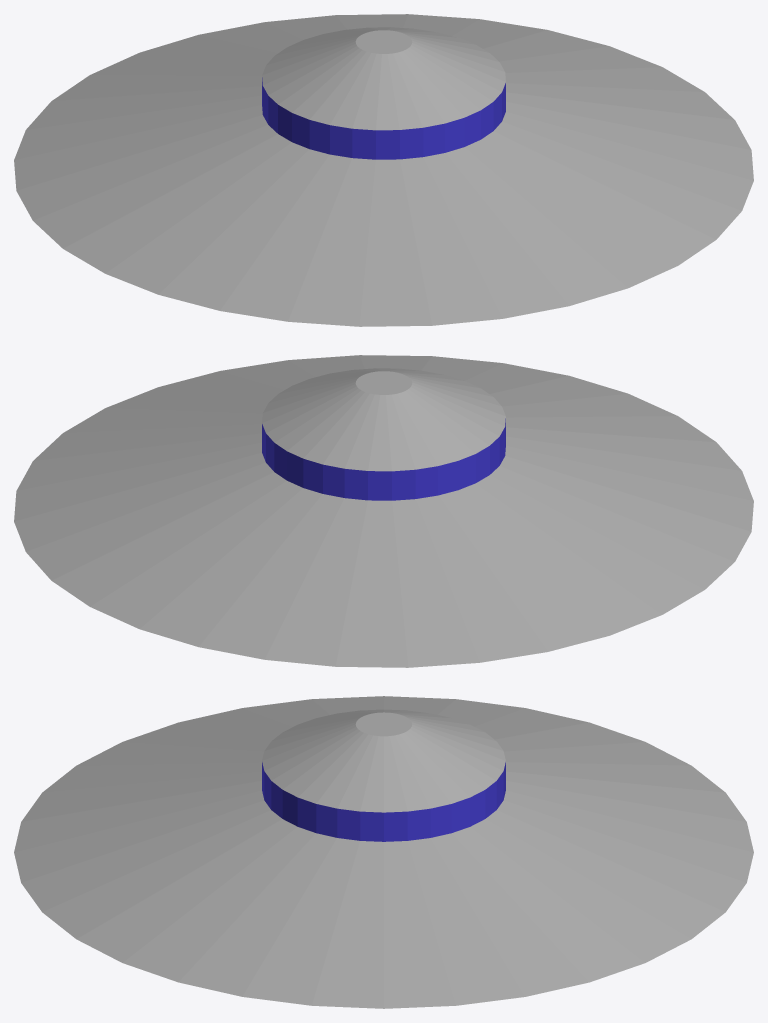
Rendered from ufo.dae.
3 renders of one model, top to bottom at view 1: azimuth 30°, elevation 25°; view 2: azimuth 150°, elevation 25°; view 3: azimuth 270°, elevation 25°, orthographic.
Parts seen in each view (by area): view 1: UFO; view 2: UFO; view 3: UFO.
Boxes of the visible parts, left/top/right/bottom form: UFO: left=14, top=14, right=753, bottom=326; UFO: left=14, top=355, right=753, bottom=667; UFO: left=14, top=696, right=753, bottom=1008.
Size of the model in its own units: 9.34 by 9.34 by 2.65.
